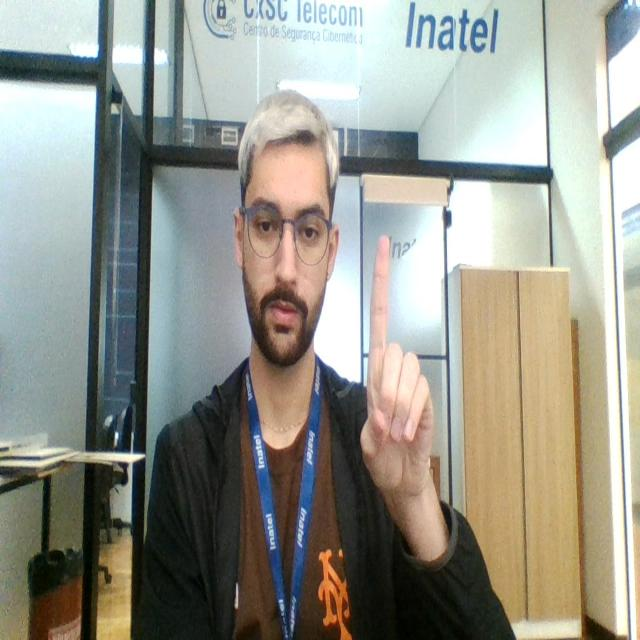D2: (361, 226, 438, 517)
